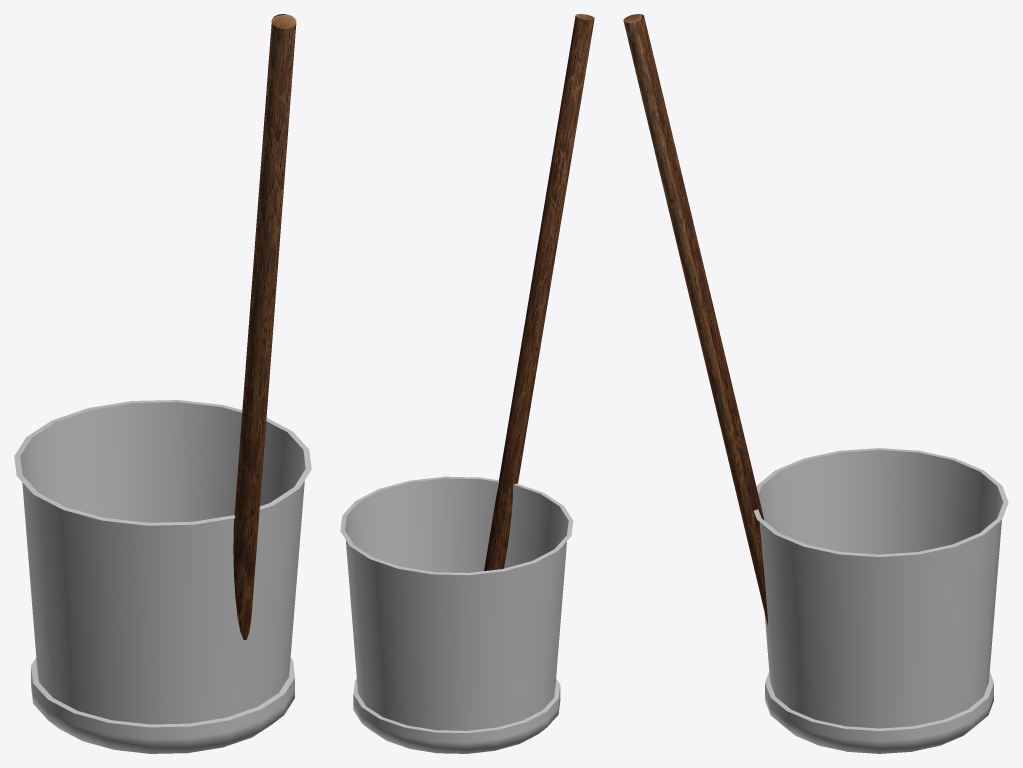
Rendered from balde e esfregao.fbx.
3 renders of one model, left to right at view 1: azimuth 30°, elevation 25°; view 2: azimuth 150°, elevation 25°; view 3: azimuth 270°, elevation 25°, orthographic. The views are drawn at different scales.
Parts seen in each view (by area): view 1: pasted__pCylinder1, pasted__pCylinder2; view 2: pasted__pCylinder1, pasted__pCylinder2; view 3: pasted__pCylinder1, pasted__pCylinder2.
Boxes of the visible parts, left/top/right/bottom form: pasted__pCylinder1: left=14, top=400, right=311, bottom=753; pasted__pCylinder2: left=233, top=14, right=296, bottom=639; pasted__pCylinder1: left=340, top=476, right=573, bottom=753; pasted__pCylinder2: left=484, top=14, right=594, bottom=570; pasted__pCylinder1: left=753, top=448, right=1008, bottom=753; pasted__pCylinder2: left=623, top=14, right=767, bottom=625.
Bounding box in the file's own units: 2.25 × 6.6 × 3.36.
